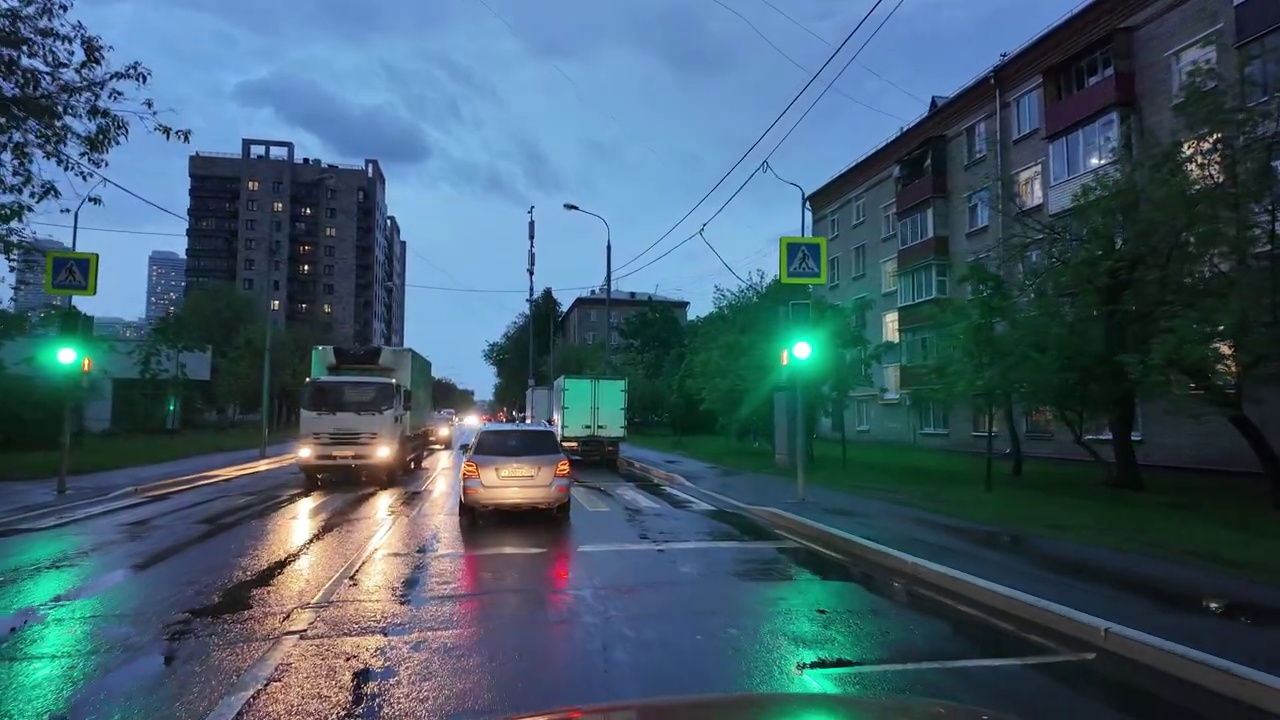apagada: (559, 197, 584, 219)
